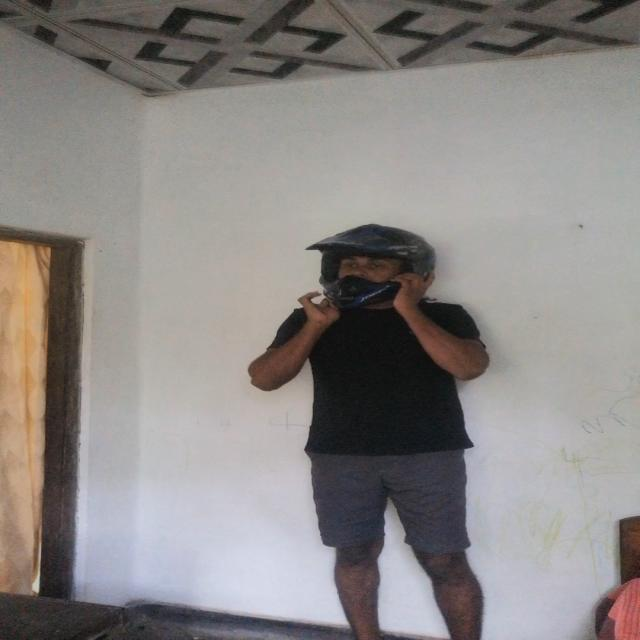Helmet_Wearer: (318, 223, 448, 320)
Person: (244, 230, 520, 634)
